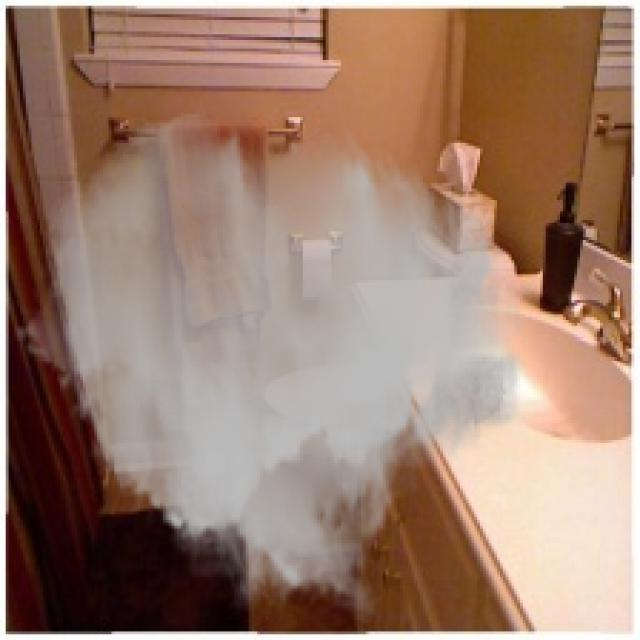smoke: (14, 109, 529, 626)
